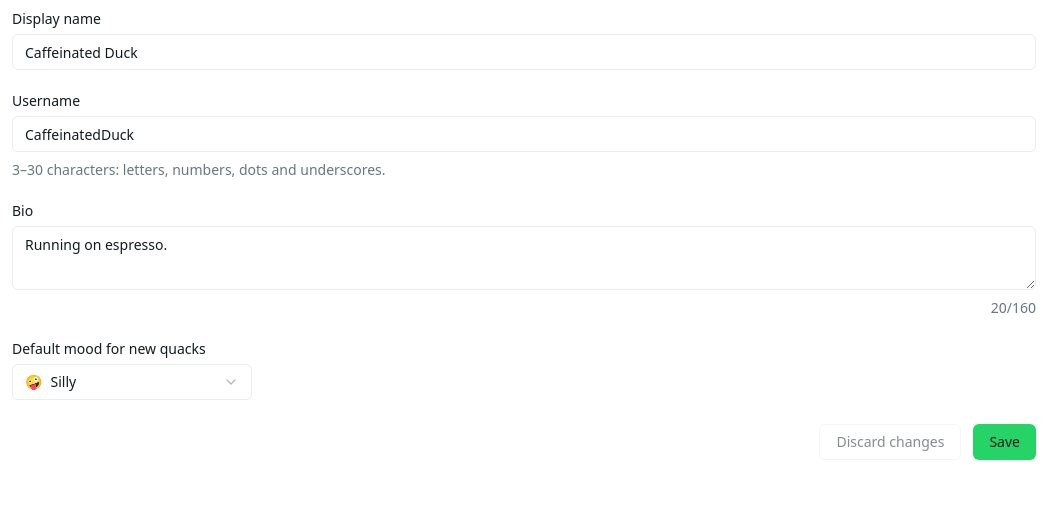
Test: ProfileForm › rejects an invalid username without saving
Replace the text in the field labelled "Username" with "no spaces!" at coordinates (524, 134), box x1=12 y1=116 x2=1036 y2=152
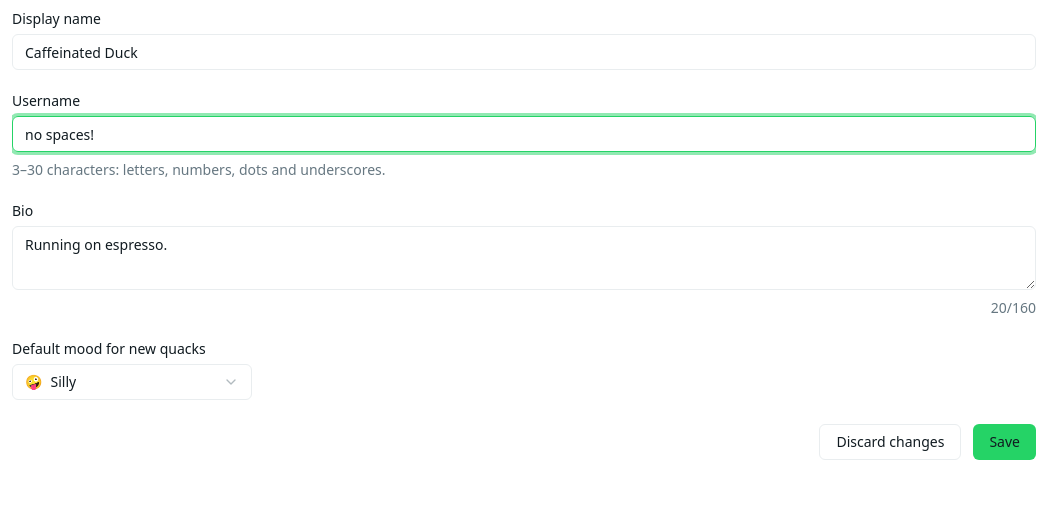
Click the button "Save" at coordinates (1005, 442), box x1=973 y1=424 x2=1036 y2=460
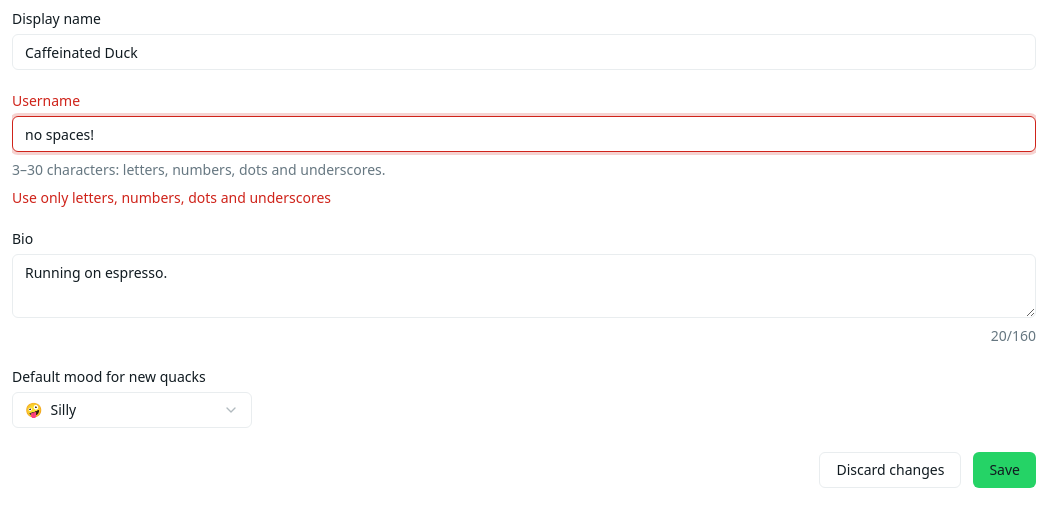
expect the text "Use only letters, numbers, dots and underscores" is shown: met, box x1=12 y1=188 x2=331 y2=207
